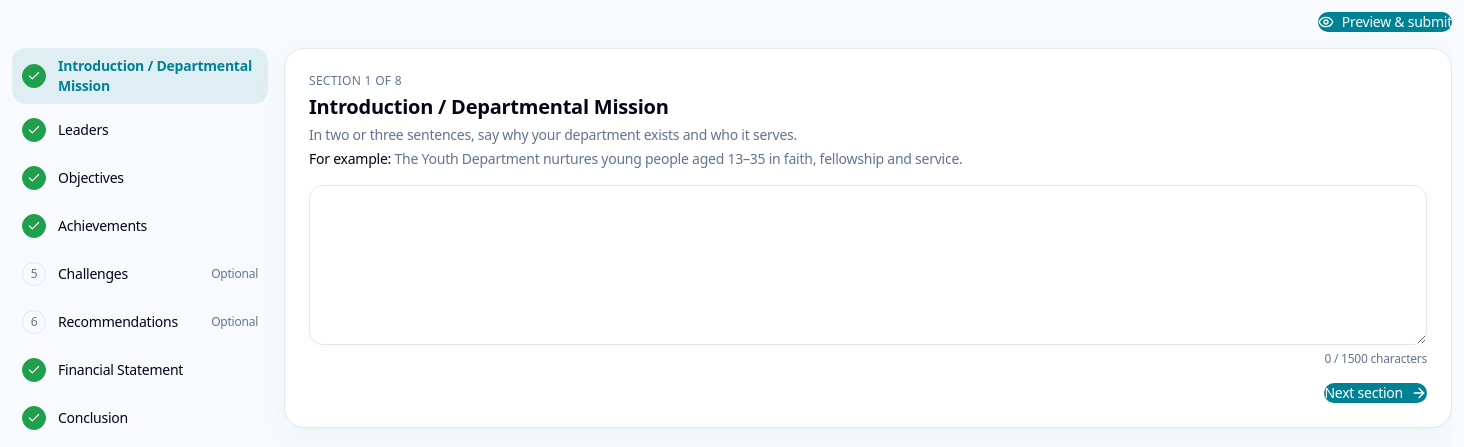
Test: stepper › walks through the sections with Next section / Previous
Expected: the heading "Introduction / Departmental Mission" is shown, [309,93,668,120]
What coordinates should you click on to do the following:
click the button "Next section"
I would click on:
 (1376, 393)
Its box is [1324,383,1427,403].
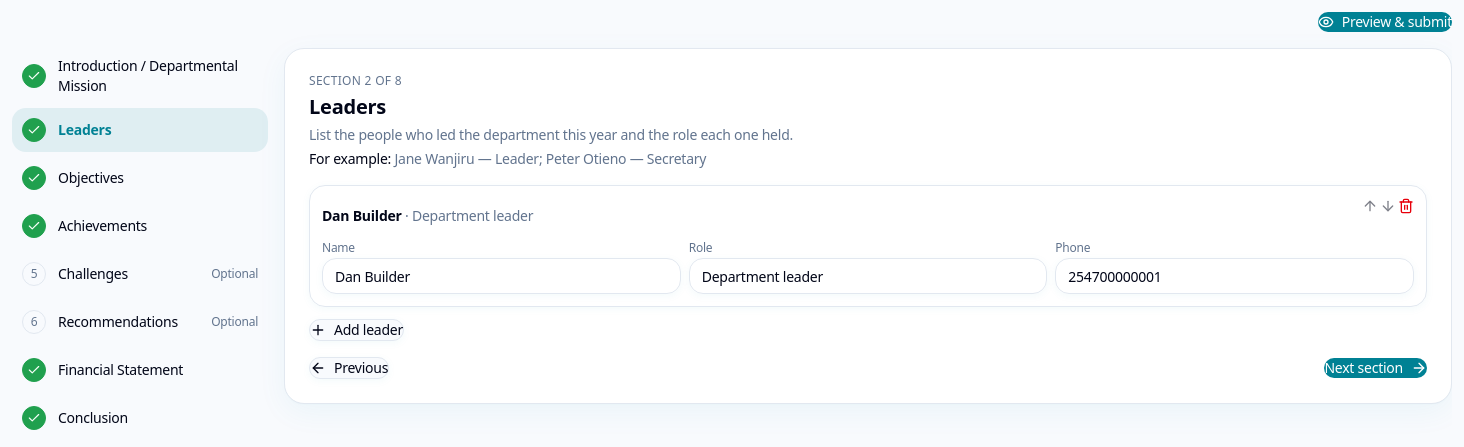
Expected: the heading "Leaders" is shown, [309,93,386,120]
What coordinates should you click on to do the following:
click the button "Previous"
I would click on:
 (349, 368)
Its box is [309,357,389,379].
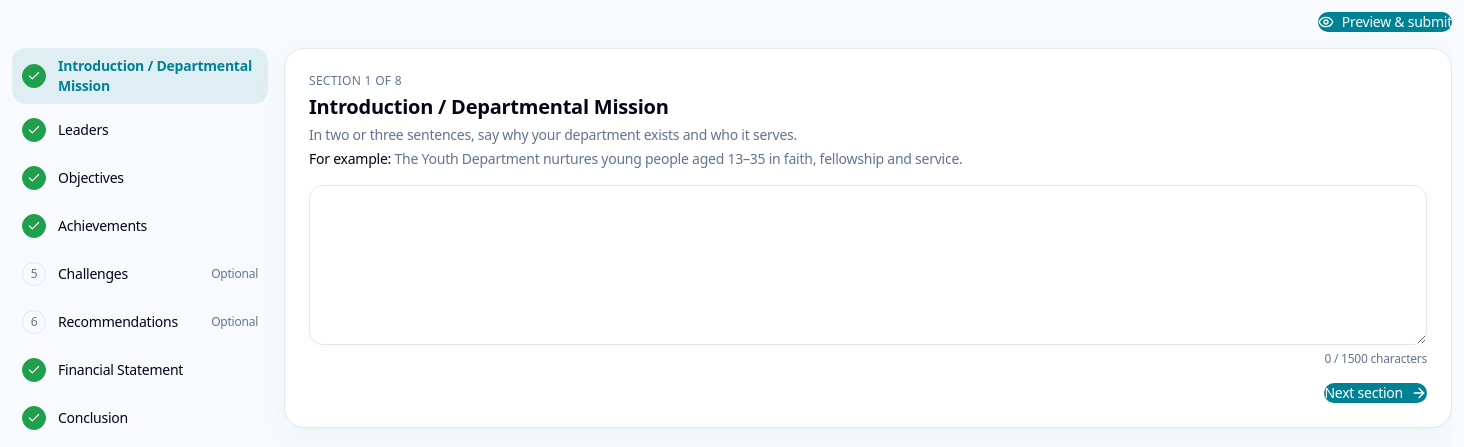
Expected: the heading "Introduction / Departmental Mission" is shown, [309,93,668,120]
